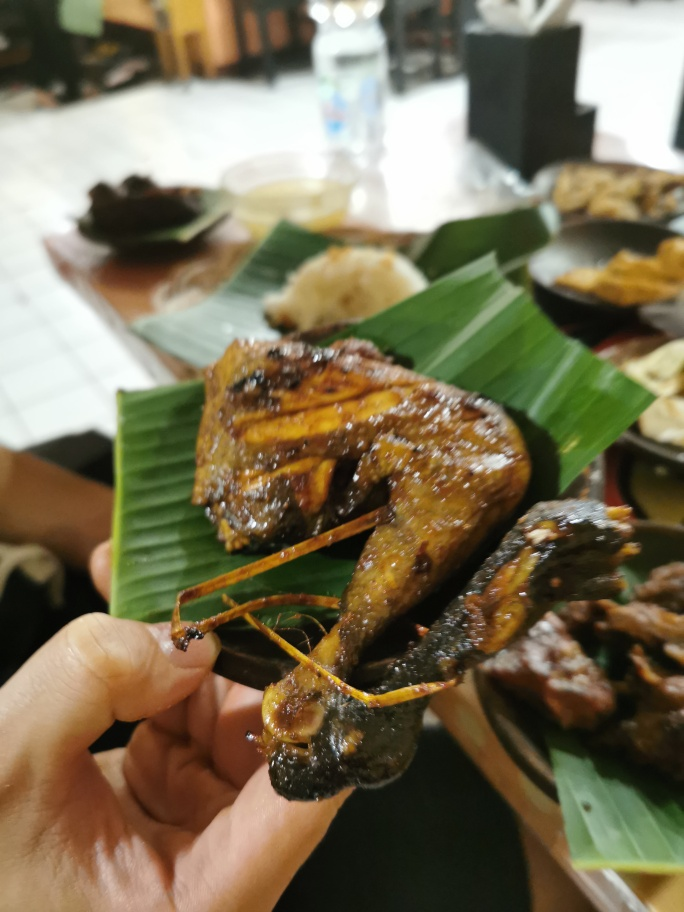ayam bakar: (188, 326, 639, 826)
